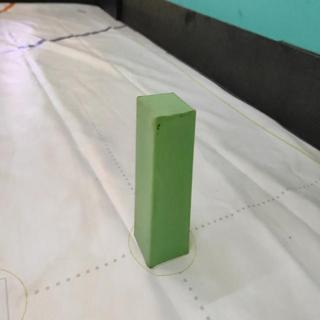greenbox: (135, 90, 198, 269)
